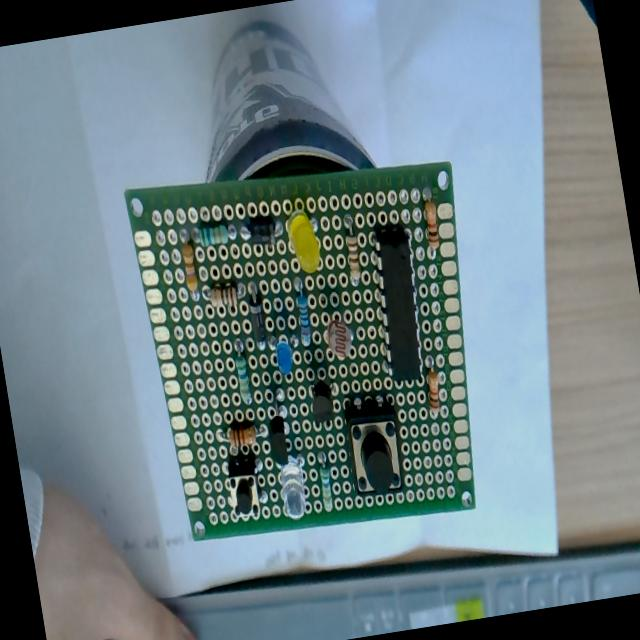IC: (368, 225, 434, 392)
cds: (322, 306, 362, 361)
diode: (241, 212, 285, 254), (247, 285, 269, 351)
led: (262, 314, 304, 379), (286, 212, 324, 277), (275, 454, 311, 522)
resistor: (340, 218, 364, 284), (232, 344, 254, 404), (294, 290, 315, 348), (420, 198, 442, 252), (208, 282, 242, 312), (181, 242, 200, 294), (228, 422, 260, 452), (424, 368, 444, 415), (318, 463, 336, 512), (198, 223, 230, 248)
switch: (343, 400, 408, 497), (226, 458, 266, 520)
transistor: (304, 371, 345, 429), (266, 415, 290, 466)
